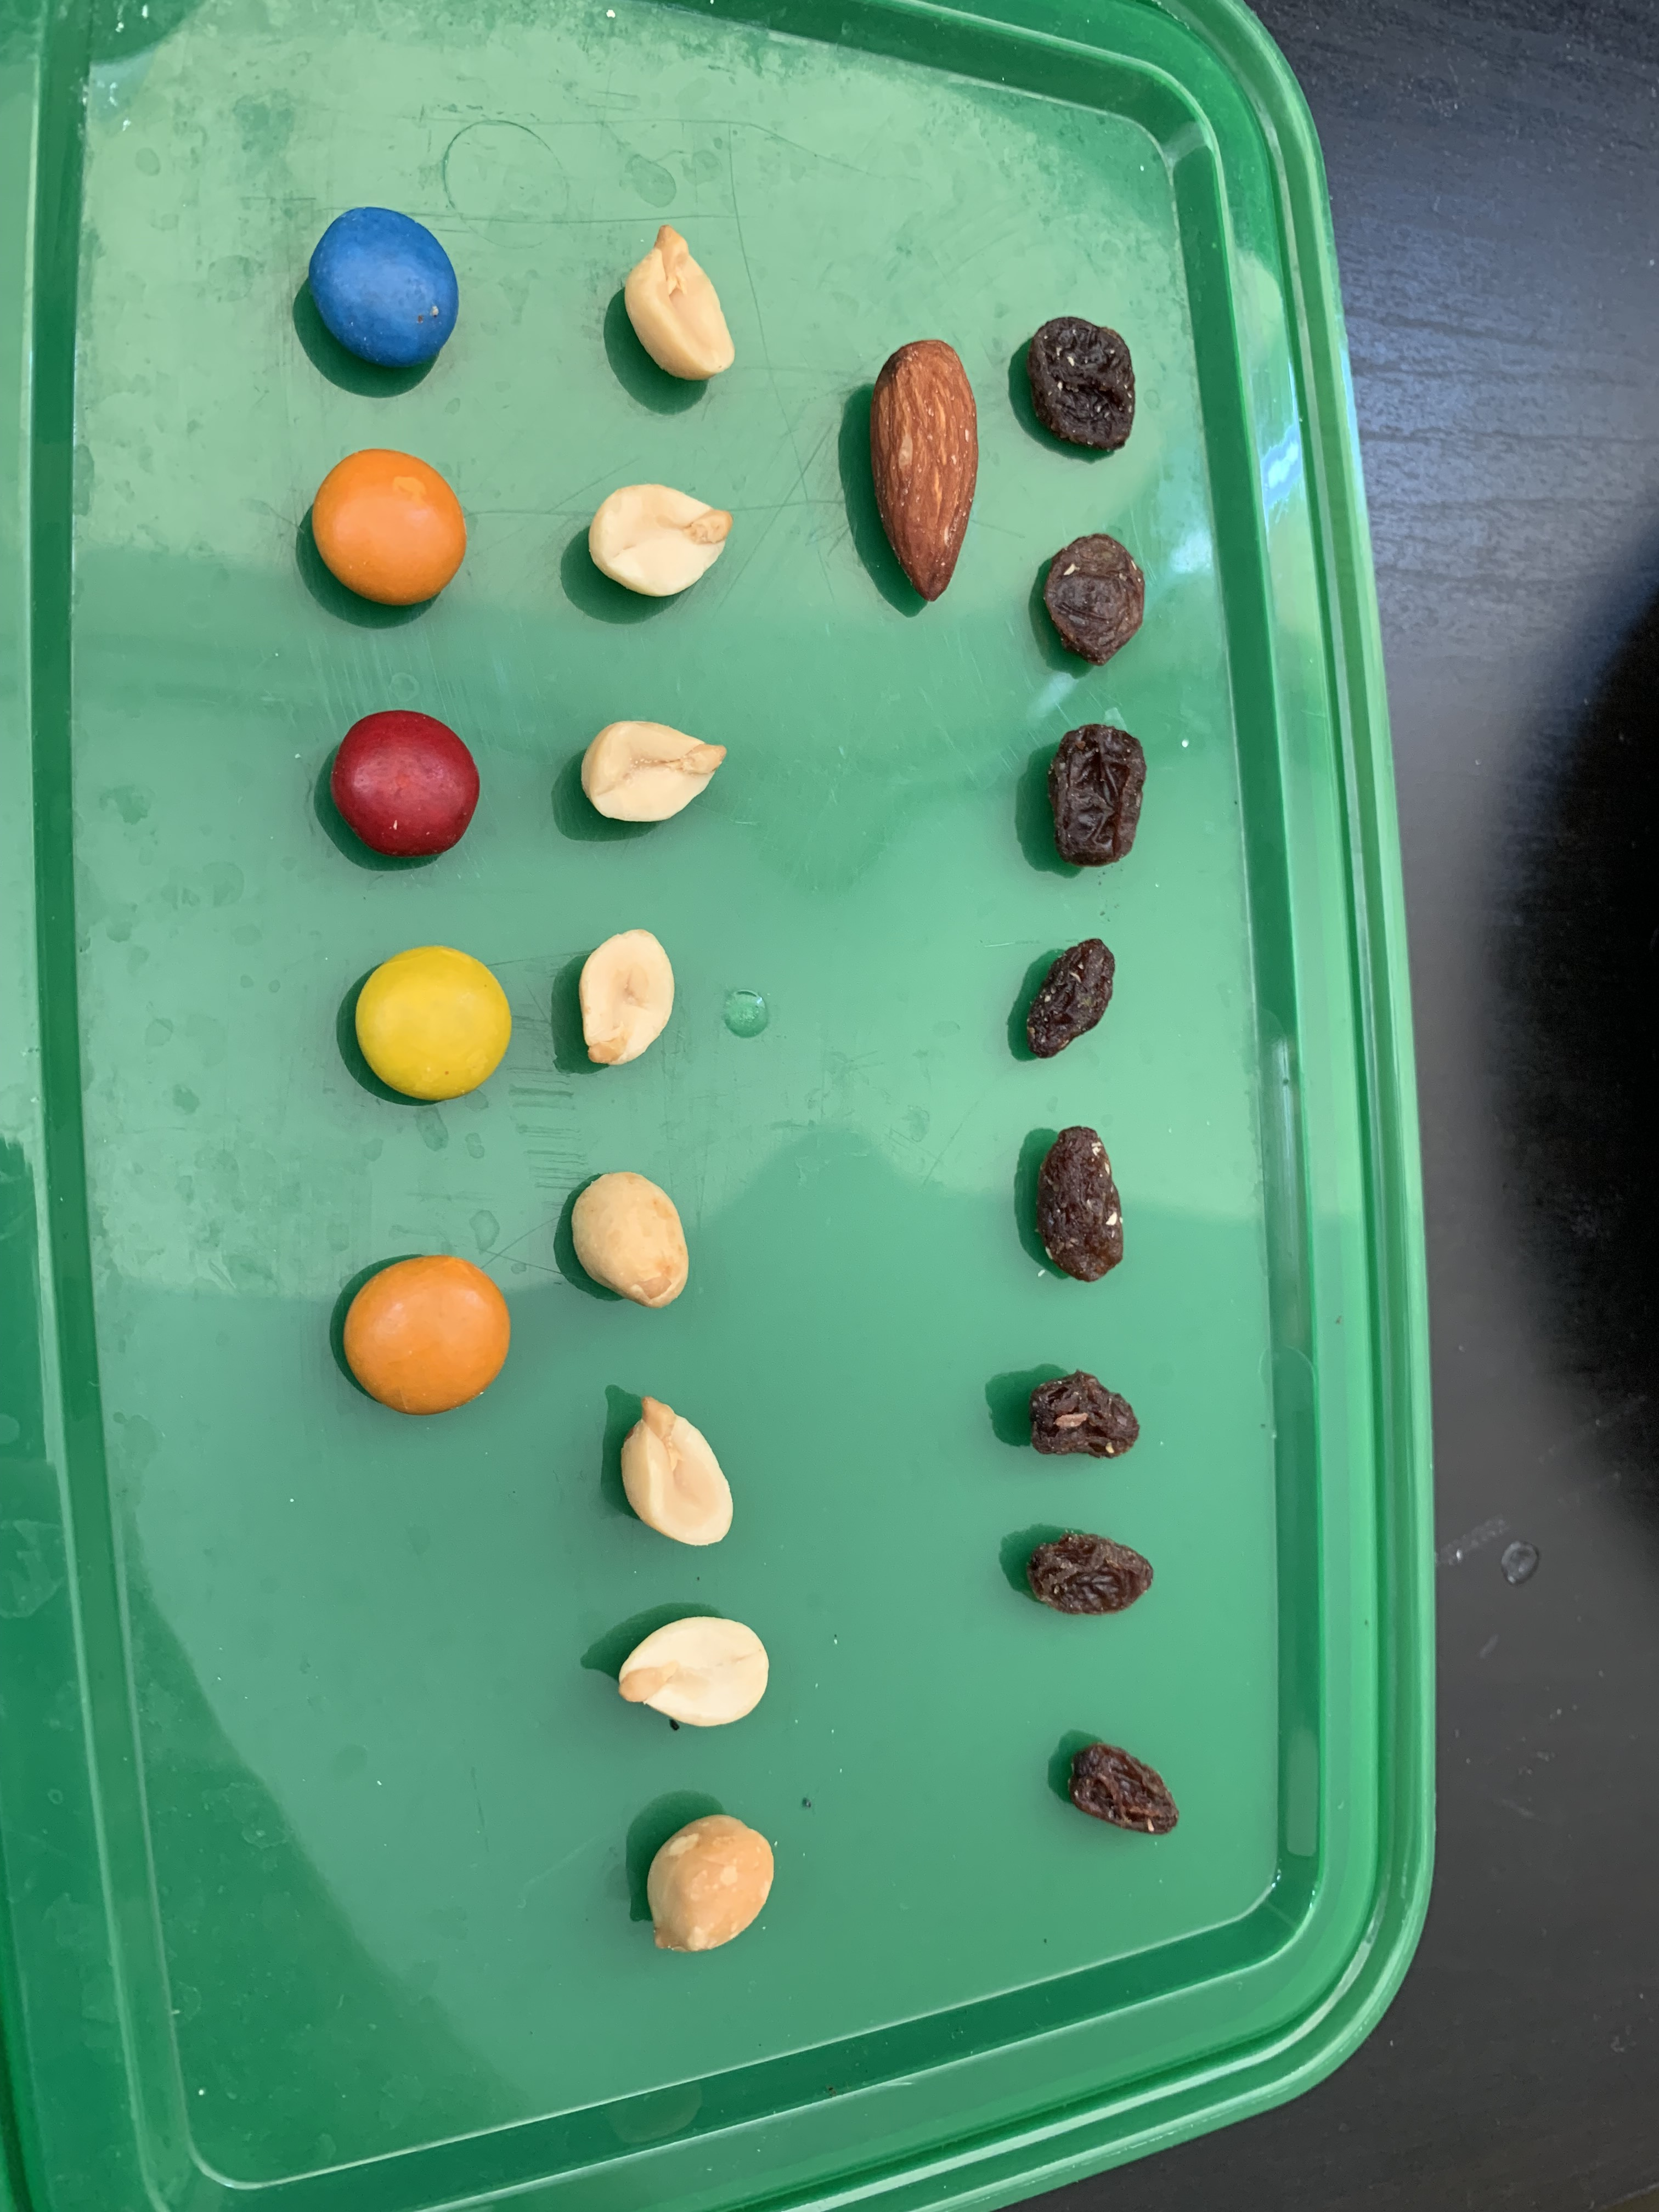almond: (868, 338, 981, 606)
mm: (342, 1254, 514, 1416), (307, 204, 460, 374), (350, 944, 512, 1103), (308, 448, 467, 608), (331, 709, 479, 862)
peanut: (622, 223, 739, 383), (613, 1397, 735, 1550), (615, 1615, 770, 1730), (586, 481, 734, 601), (647, 1813, 777, 1949), (568, 1167, 690, 1308), (577, 718, 728, 826), (572, 928, 676, 1073)
raisin: (1028, 315, 1140, 455), (1047, 723, 1148, 867), (1042, 531, 1147, 664), (1039, 1125, 1124, 1284), (1063, 1740, 1182, 1839), (1025, 1529, 1155, 1616), (1021, 939, 1115, 1059), (1026, 1371, 1140, 1461)
